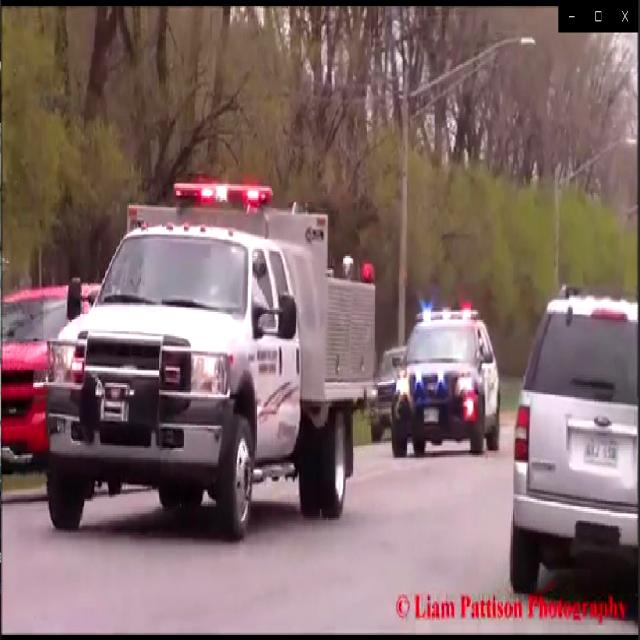emergency: (50, 175, 372, 519), (388, 294, 506, 468)
